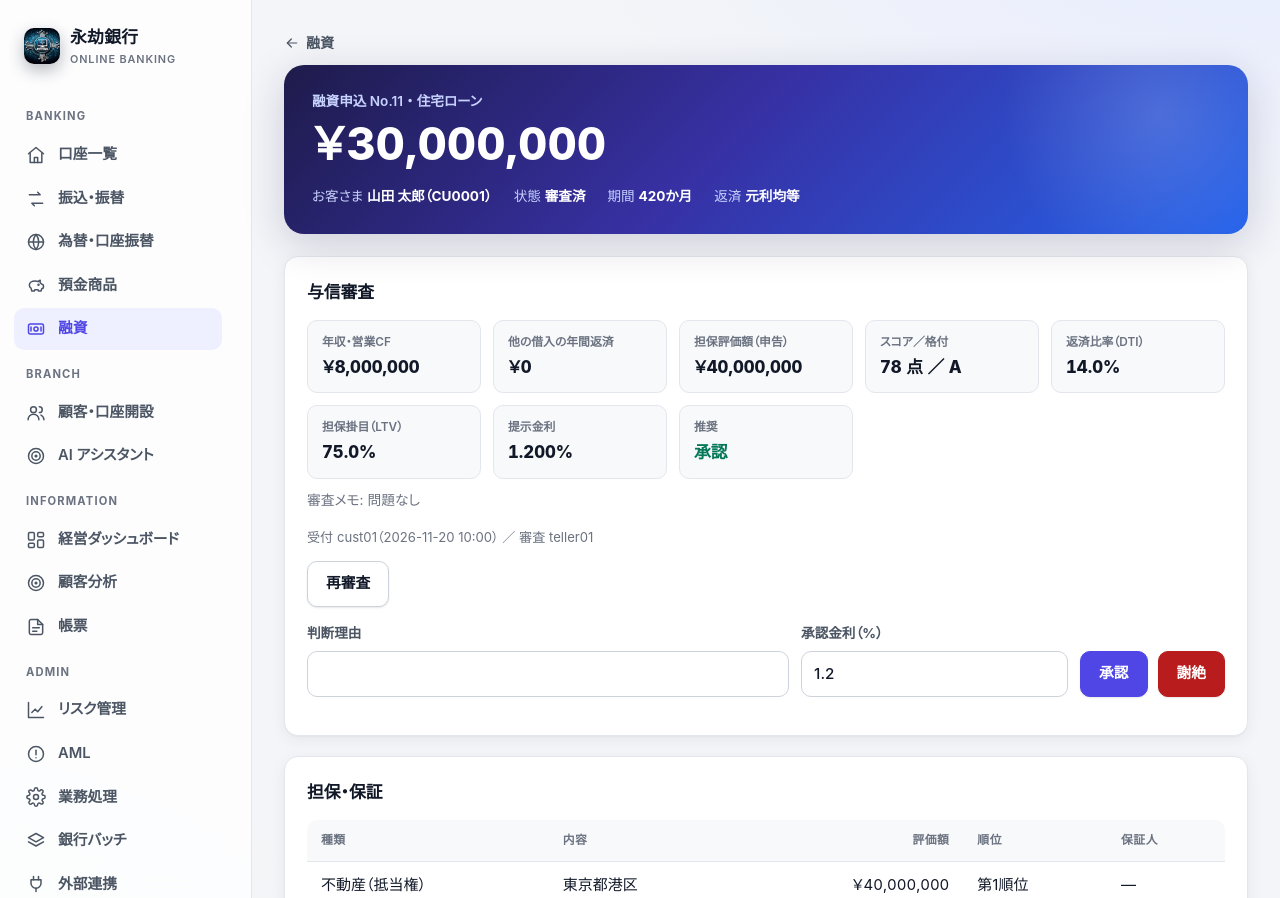
Test: ApplicationPage › 役席：提示金利を初期値に承認、理由を付けて謝絶
Expected: the field labelled "承認金利（%）" holds "1.2", [801,651,1068,697]
Click the button "承認" at (1114, 674), box [1080,651,1148,697]
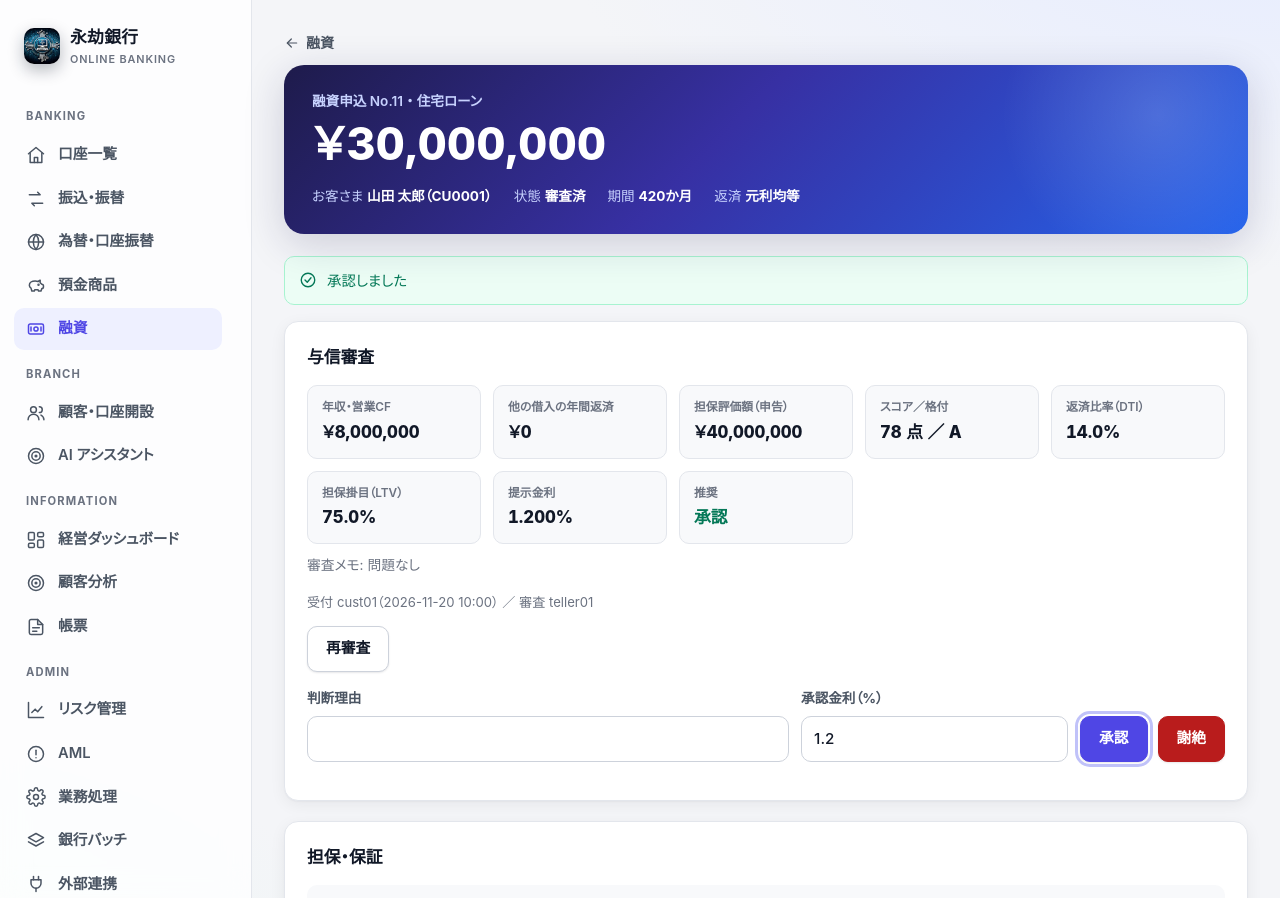
Type "返済比率が高い" into the field labelled "判断理由" at (548, 739), box [307,716,789,762]
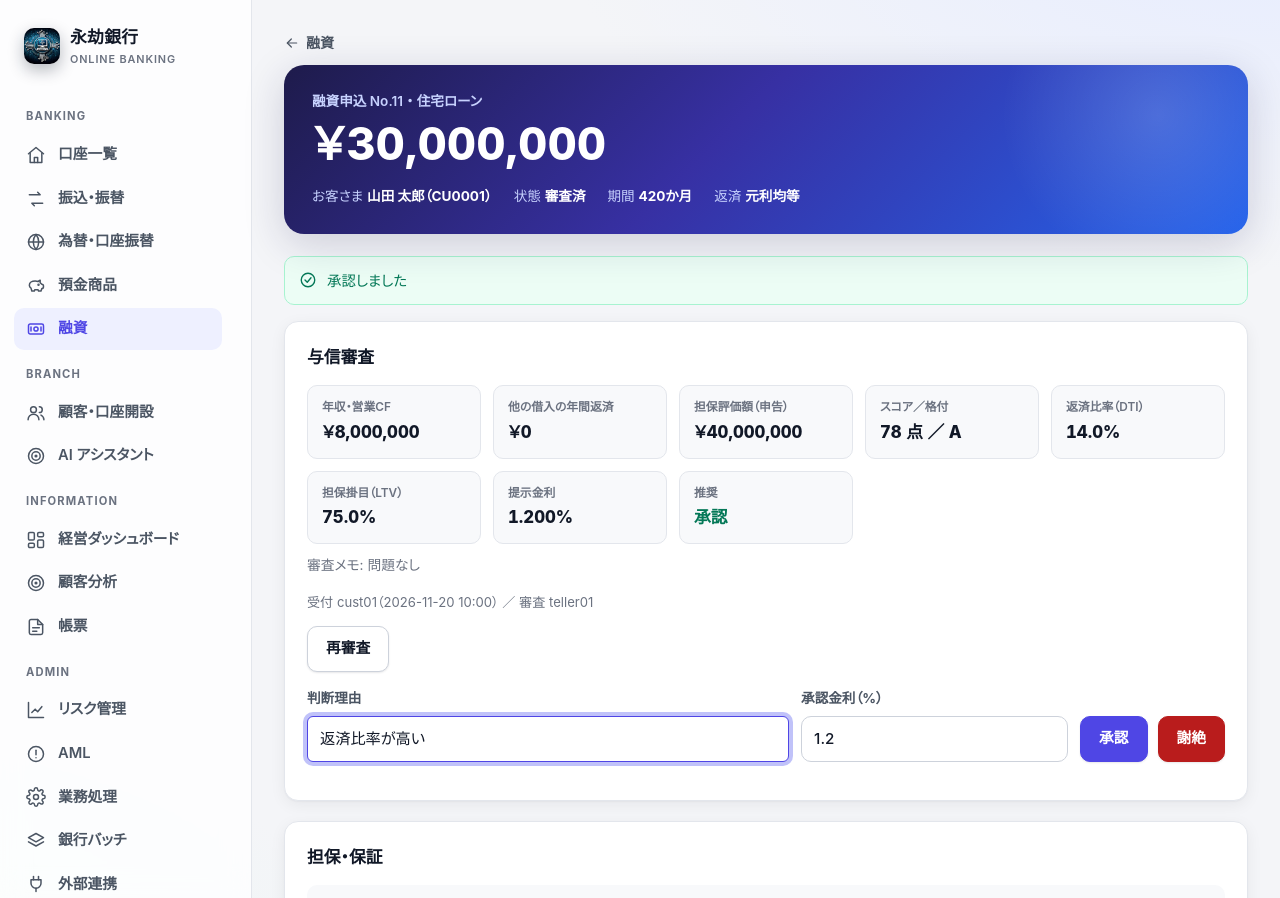
Click the button "謝絶" at (1191, 739), box [1158,716,1225,762]
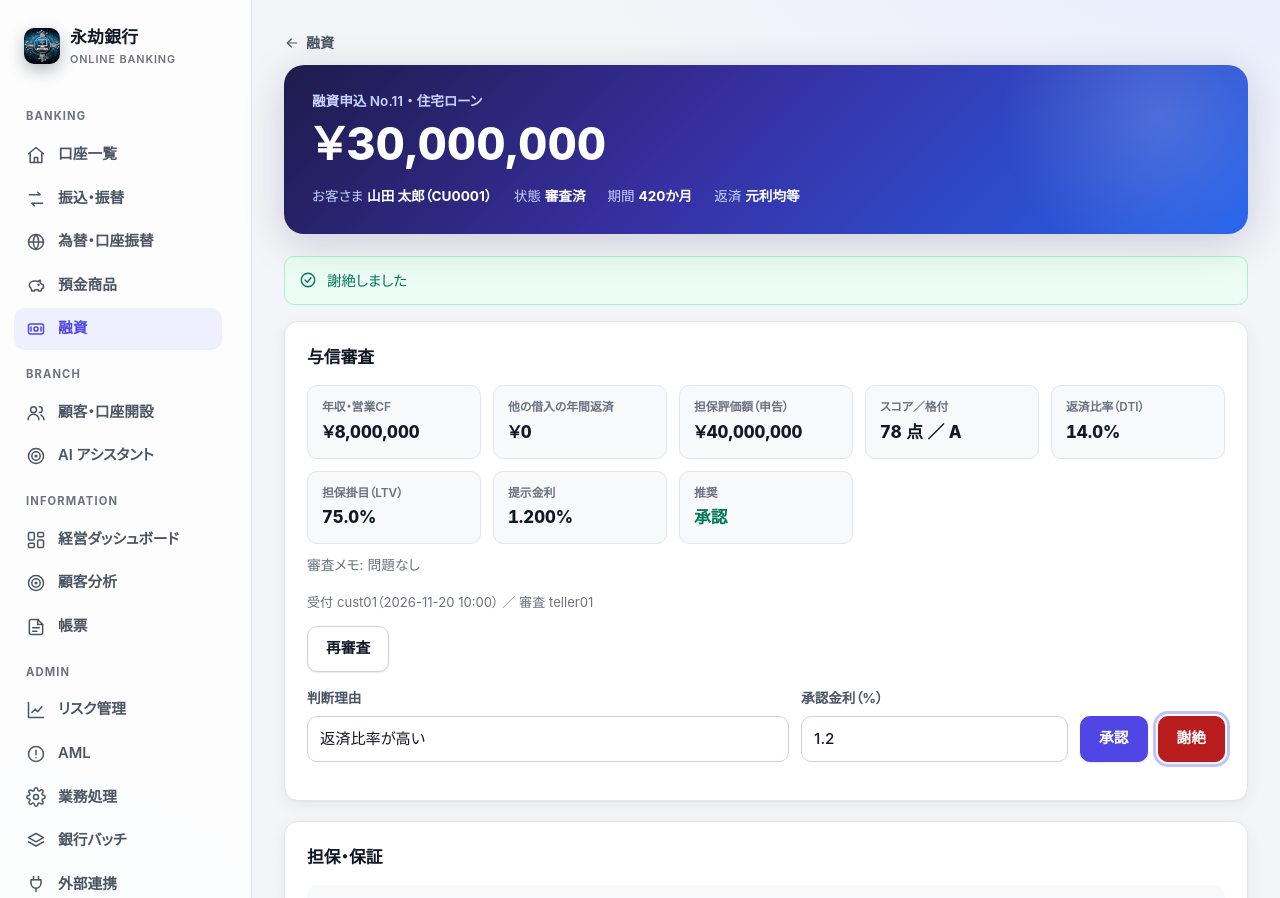
Result: the text "謝絶しました" is shown at [327,269,407,292]
